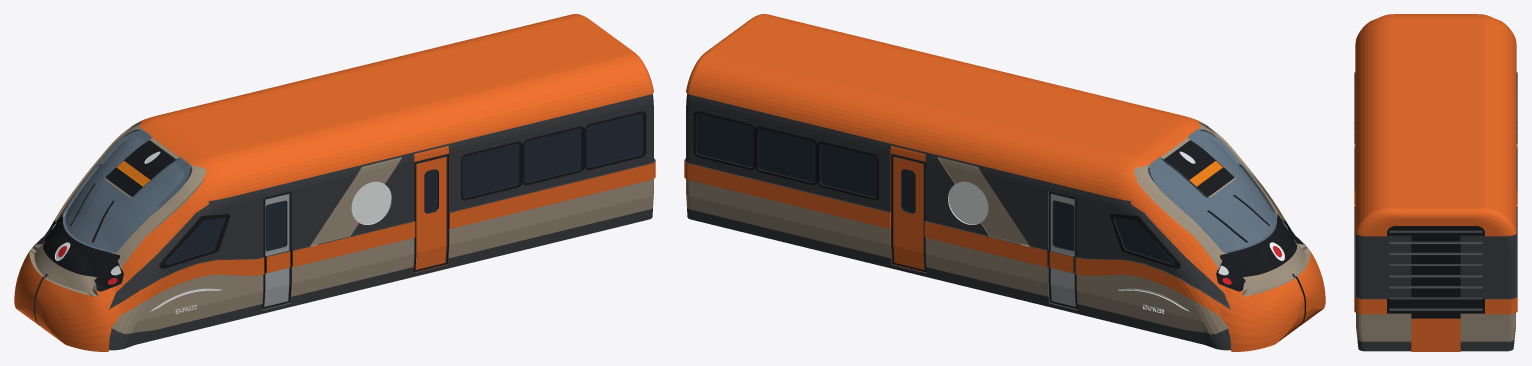
The model's file is vandebharat.glb.
The picture shows the model from 3 angles, left to right: view 1: azimuth 30°, elevation 25°; view 2: azimuth 150°, elevation 25°; view 3: azimuth 270°, elevation 25°; orthographic projection. The views are drawn at different scales.
Parts seen in each view (by area): view 1: ir_vandebharat; view 2: ir_vandebharat; view 3: ir_vandebharat.
Boxes of the visible parts, x1,y1,x2,y2 form: ir_vandebharat: [14, 14, 655, 351]; ir_vandebharat: [684, 14, 1325, 351]; ir_vandebharat: [1354, 14, 1517, 351].
Size of the model in its own units: 150 by 38 by 40.
